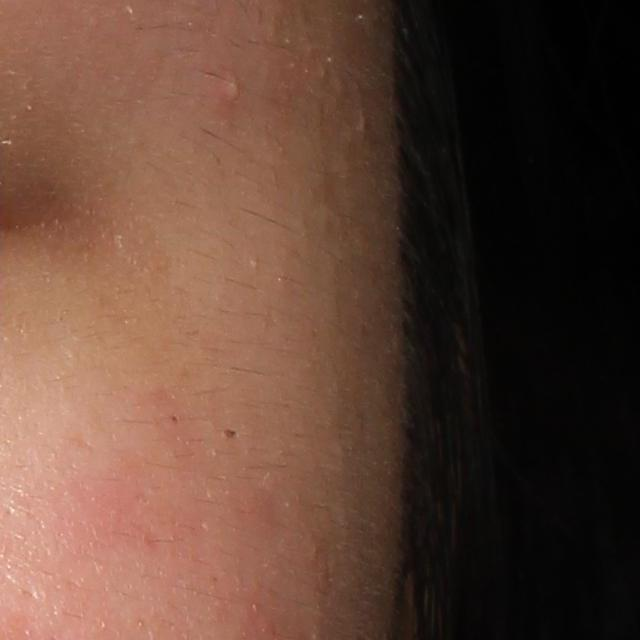nevus: (222, 426, 243, 439)
